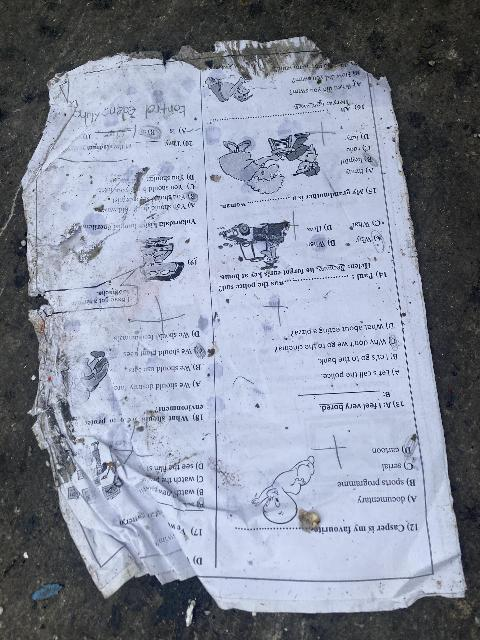Kagit: (18, 37, 467, 614)
